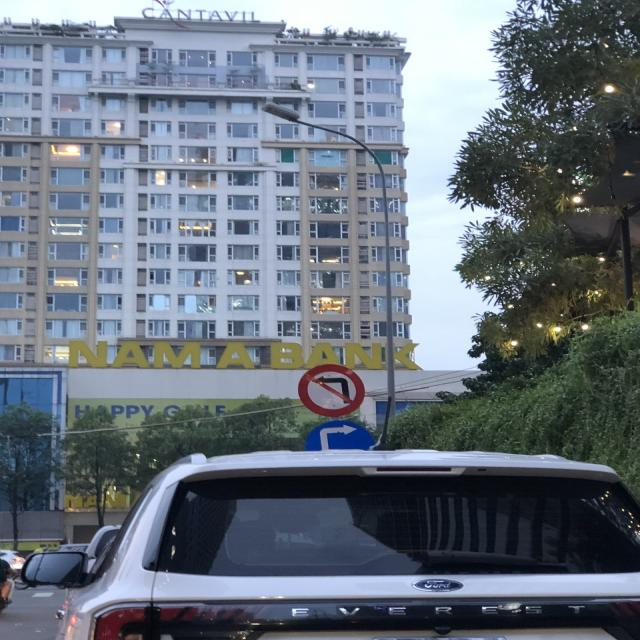Bien bao cam re trai: (290, 359, 388, 416)
